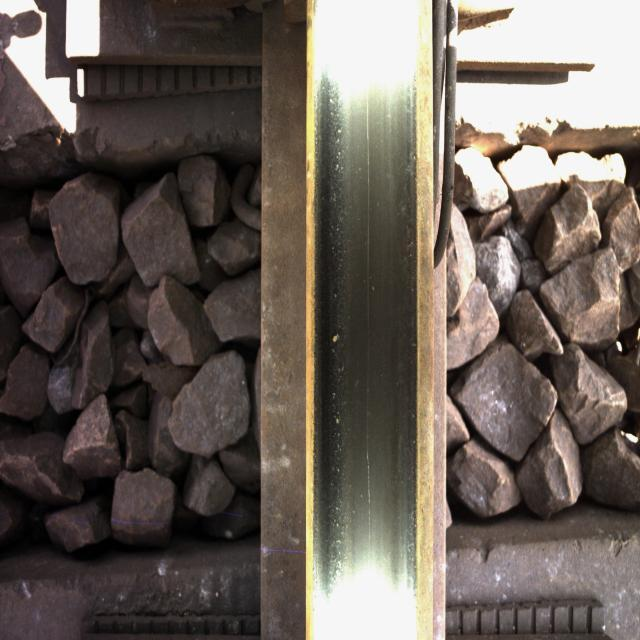break: (323, 44, 418, 611)
